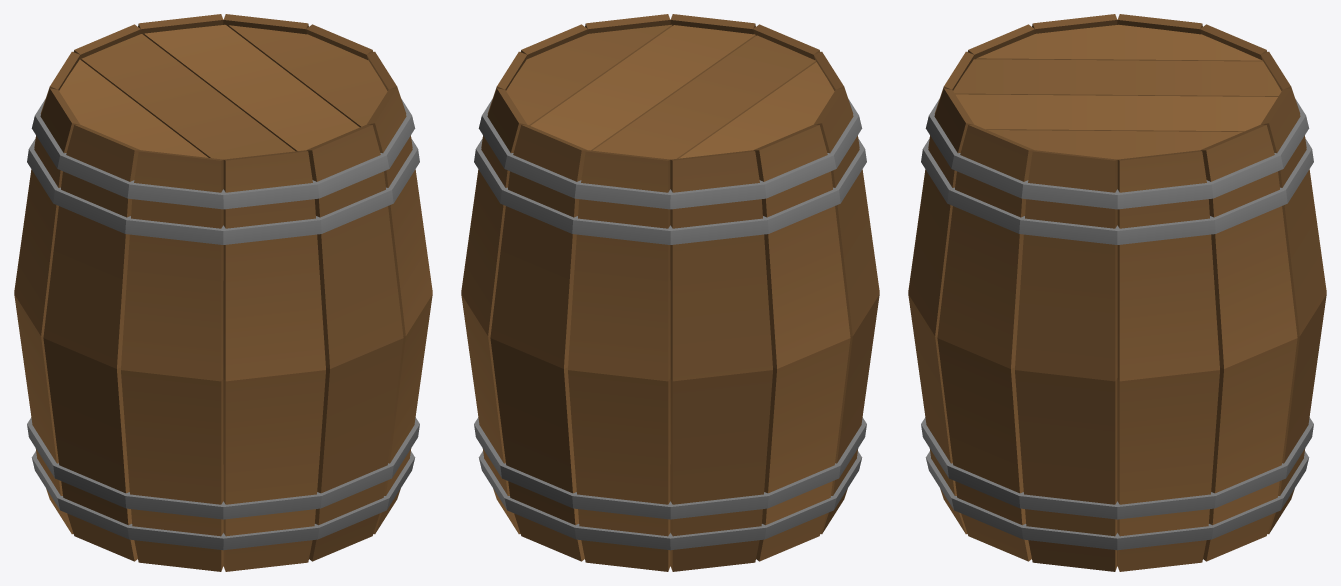
The model's file is Prop_Barrel_01.obj.
3 renders of one model, left to right at view 1: azimuth 30°, elevation 25°; view 2: azimuth 150°, elevation 25°; view 3: azimuth 270°, elevation 25°, orthographic.
Visible parts, largest first — view 1: Prop_Barrel_01; view 2: Prop_Barrel_01; view 3: Prop_Barrel_01.
Part boxes in pixels (left/top/right/bottom): Prop_Barrel_01: left=14, top=14, right=432, bottom=571; Prop_Barrel_01: left=461, top=14, right=879, bottom=571; Prop_Barrel_01: left=908, top=14, right=1326, bottom=571.
Size of the model in its own units: 0.8302 by 0.9 by 0.8302.
1 material, 1 textured.
